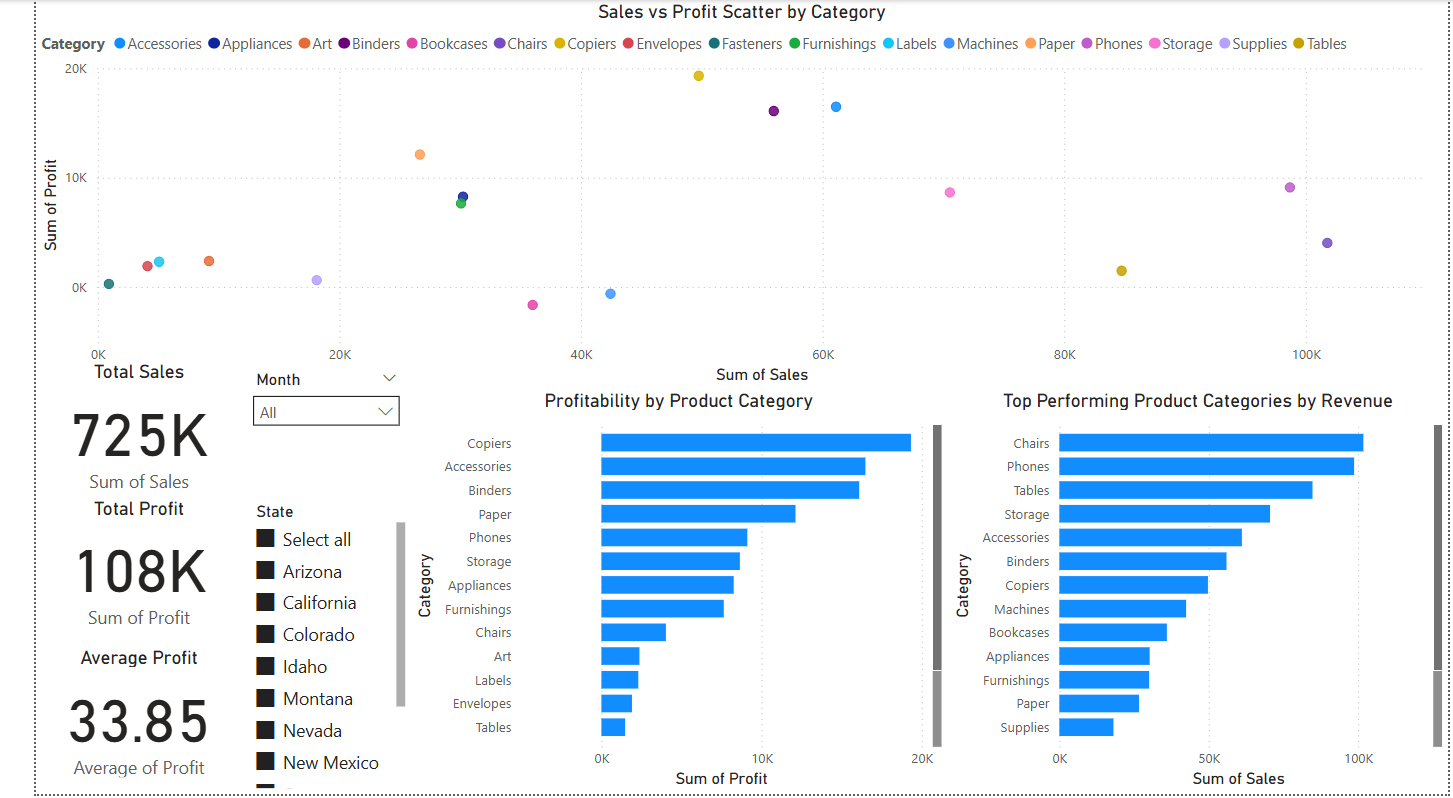

The page's visual inventory and layout, read from the dashboard file:
{"tool":"powerbi","page":{"name":"Categories_Sale & Profit","canvas":[1280,720],"ordinal":2},"visuals":[{"type":"barChart","title":"Top Performing Product Categories by Revenue","fields":{"Category":["city_sales_cleaned.Category"],"Y":["Sum(city_sales_cleaned.Sales)"]},"box":[826.7,353.1,453.3,366.7],"z":0},{"type":"barChart","title":"Profitability by Product Category","fields":{"Category":["city_sales_cleaned.Category"],"Y":["Sum(city_sales_cleaned.Profit)"]},"box":[339.5,353.1,487.3,366.7],"z":1000},{"type":"scatterChart","title":"Sales vs Profit Scatter by Category","fields":{"X":["Sum(city_sales_cleaned.Sales)"],"Y":["Sum(city_sales_cleaned.Profit)"],"Series":["city_sales_cleaned.Category"]},"box":[0,0,1280,353.1],"z":2000},{"type":"card","title":"Total Sales","fields":{"Values":["Sum(city_sales_cleaned.Sales)"]},"box":[0,326.8,186.7,123.5],"z":3000},{"type":"card","title":"Total Profit ","fields":{"Values":["Sum(city_sales_cleaned.Profit)"]},"box":[0,450.3,186.7,122.6],"z":4000},{"type":"card","title":"Average Profit ","fields":{"Values":["Avg(city_sales_cleaned.Profit)"]},"box":[0,585.5,186.7,123.5],"z":5000},{"type":"slicer","fields":{"Values":["city_sales_cleaned.Month"]},"box":[186.7,330.7,152.7,109.9],"z":6000},{"type":"slicer","fields":{"Values":["city_sales_cleaned.State"]},"box":[186.7,450.3,152.7,269.4],"z":7000}]}

Visuals, with their boxes in screenshot pixels (x1, y1, x2, y2), scaled from the page's 1280x720 canvas onto the 1453x798 screenshot:
"Top Performing Product Categories by Revenue" barChart: box=[938, 391, 1452, 797]
"Profitability by Product Category" barChart: box=[385, 391, 939, 797]
"Sales vs Profit Scatter by Category" scatterChart: box=[0, 0, 1452, 391]
"Total Sales" card: box=[0, 362, 212, 499]
"Total Profit " card: box=[0, 499, 212, 635]
"Average Profit " card: box=[0, 649, 212, 786]
slicer - city_sales_cleaned.Month: box=[212, 367, 385, 488]
slicer - city_sales_cleaned.State: box=[212, 499, 385, 797]
